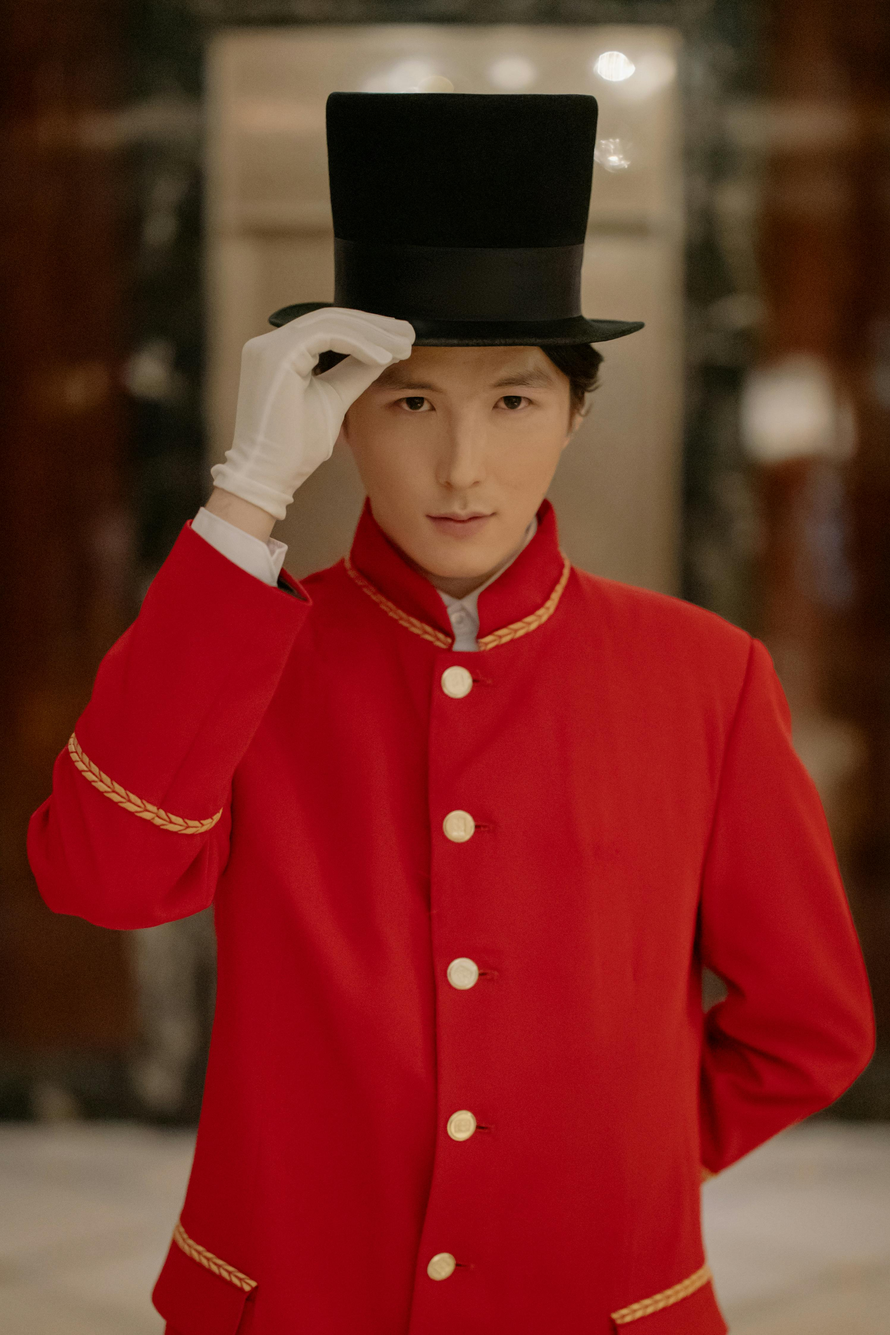gloves: (199, 318, 427, 540)
